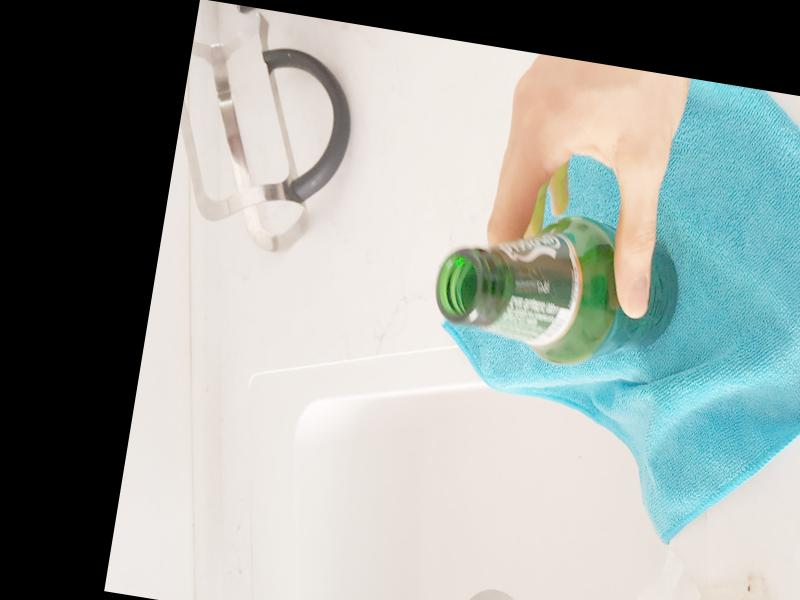Beer: (430, 207, 688, 379)
